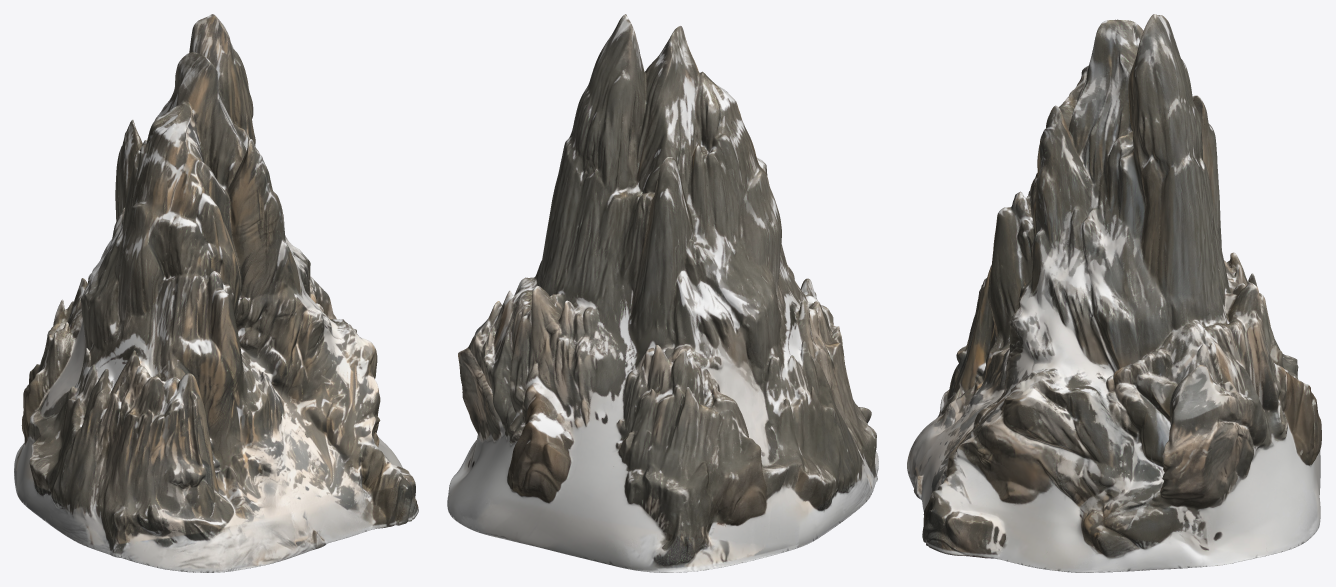
The model's file is ice_peak.glb.
The picture shows the model from 3 angles, left to right: view 1: azimuth 30°, elevation 25°; view 2: azimuth 150°, elevation 25°; view 3: azimuth 270°, elevation 25°; orthographic projection. The views are drawn at different scales.
Parts seen in each view (by area): view 1: ice_peak; view 2: ice_peak; view 3: ice_peak.
Part boxes in pixels (x1=…): ice_peak: x1=14, y1=14, x2=418, y2=572; ice_peak: x1=447, y1=14, x2=878, y2=572; ice_peak: x1=907, y1=14, x2=1321, y2=572.
Bounding box in the file's own units: 147 × 190 × 148.
Materials: 1 (1 with a texture image).
